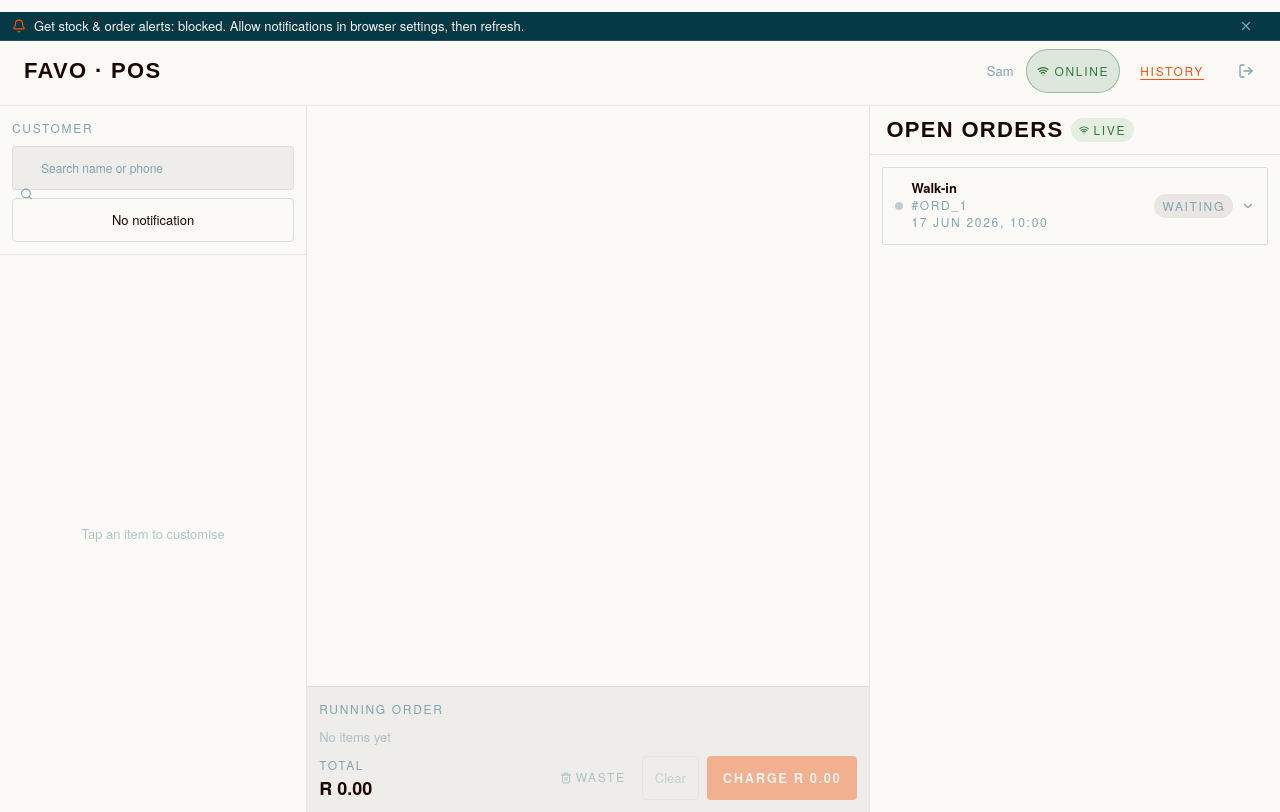
Test case: queue payment gate (L01) › unpaid order shows Take payment and hides Start Making
Click the text "#ORD_1".
click(940, 204)  # box [911, 196, 968, 213]
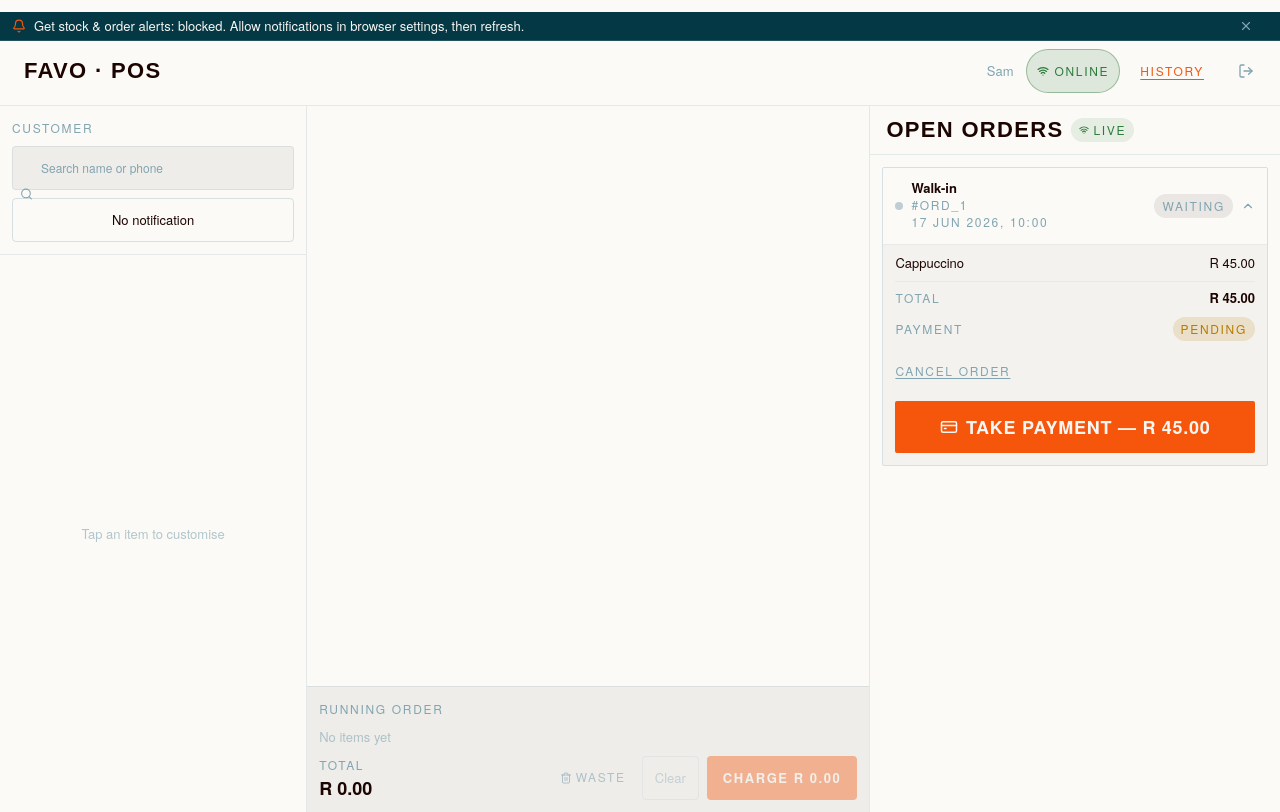
Expected: the button "Take payment — R 45.00" is shown, [895, 401, 1255, 453]
Expected: the text "Pending" is shown, [1172, 317, 1255, 341]
